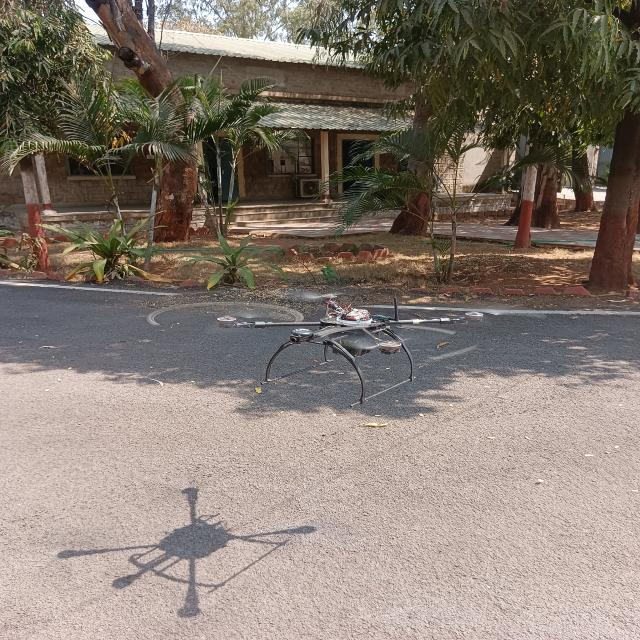drone: (184, 258, 528, 411)
